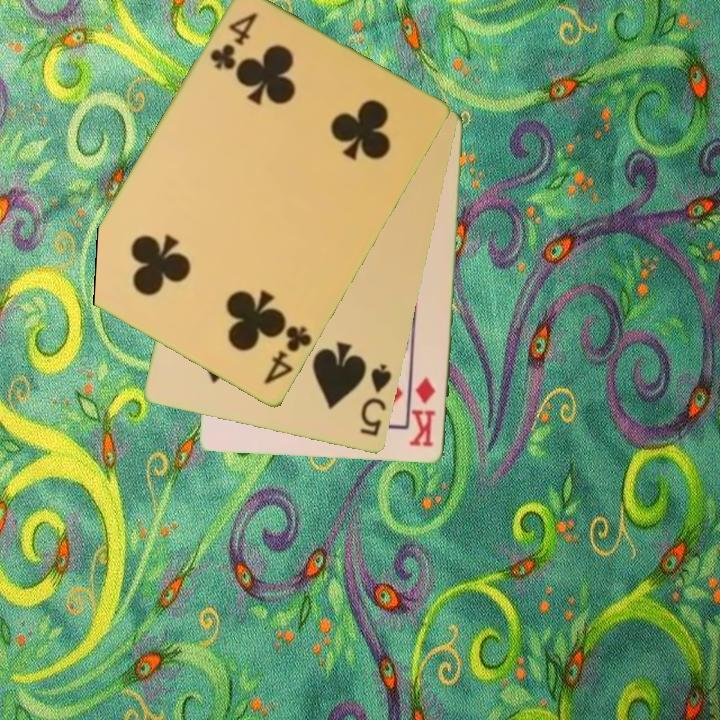4c: (260, 322, 315, 389), (206, 9, 261, 74)
5s: (357, 361, 395, 440)
Kd: (409, 373, 439, 450)
